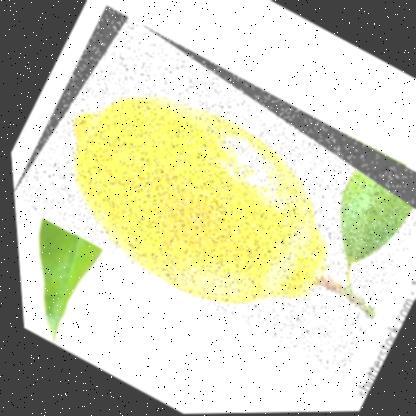lemon: (0, 0, 415, 384)
